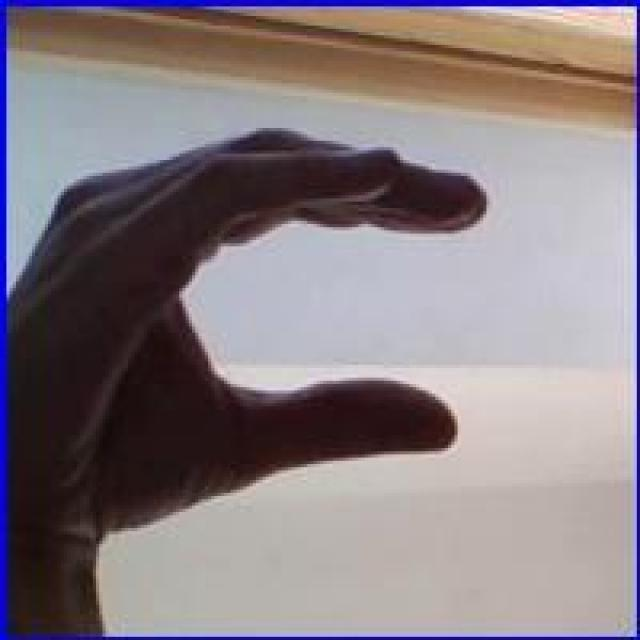C: (19, 120, 493, 526)
